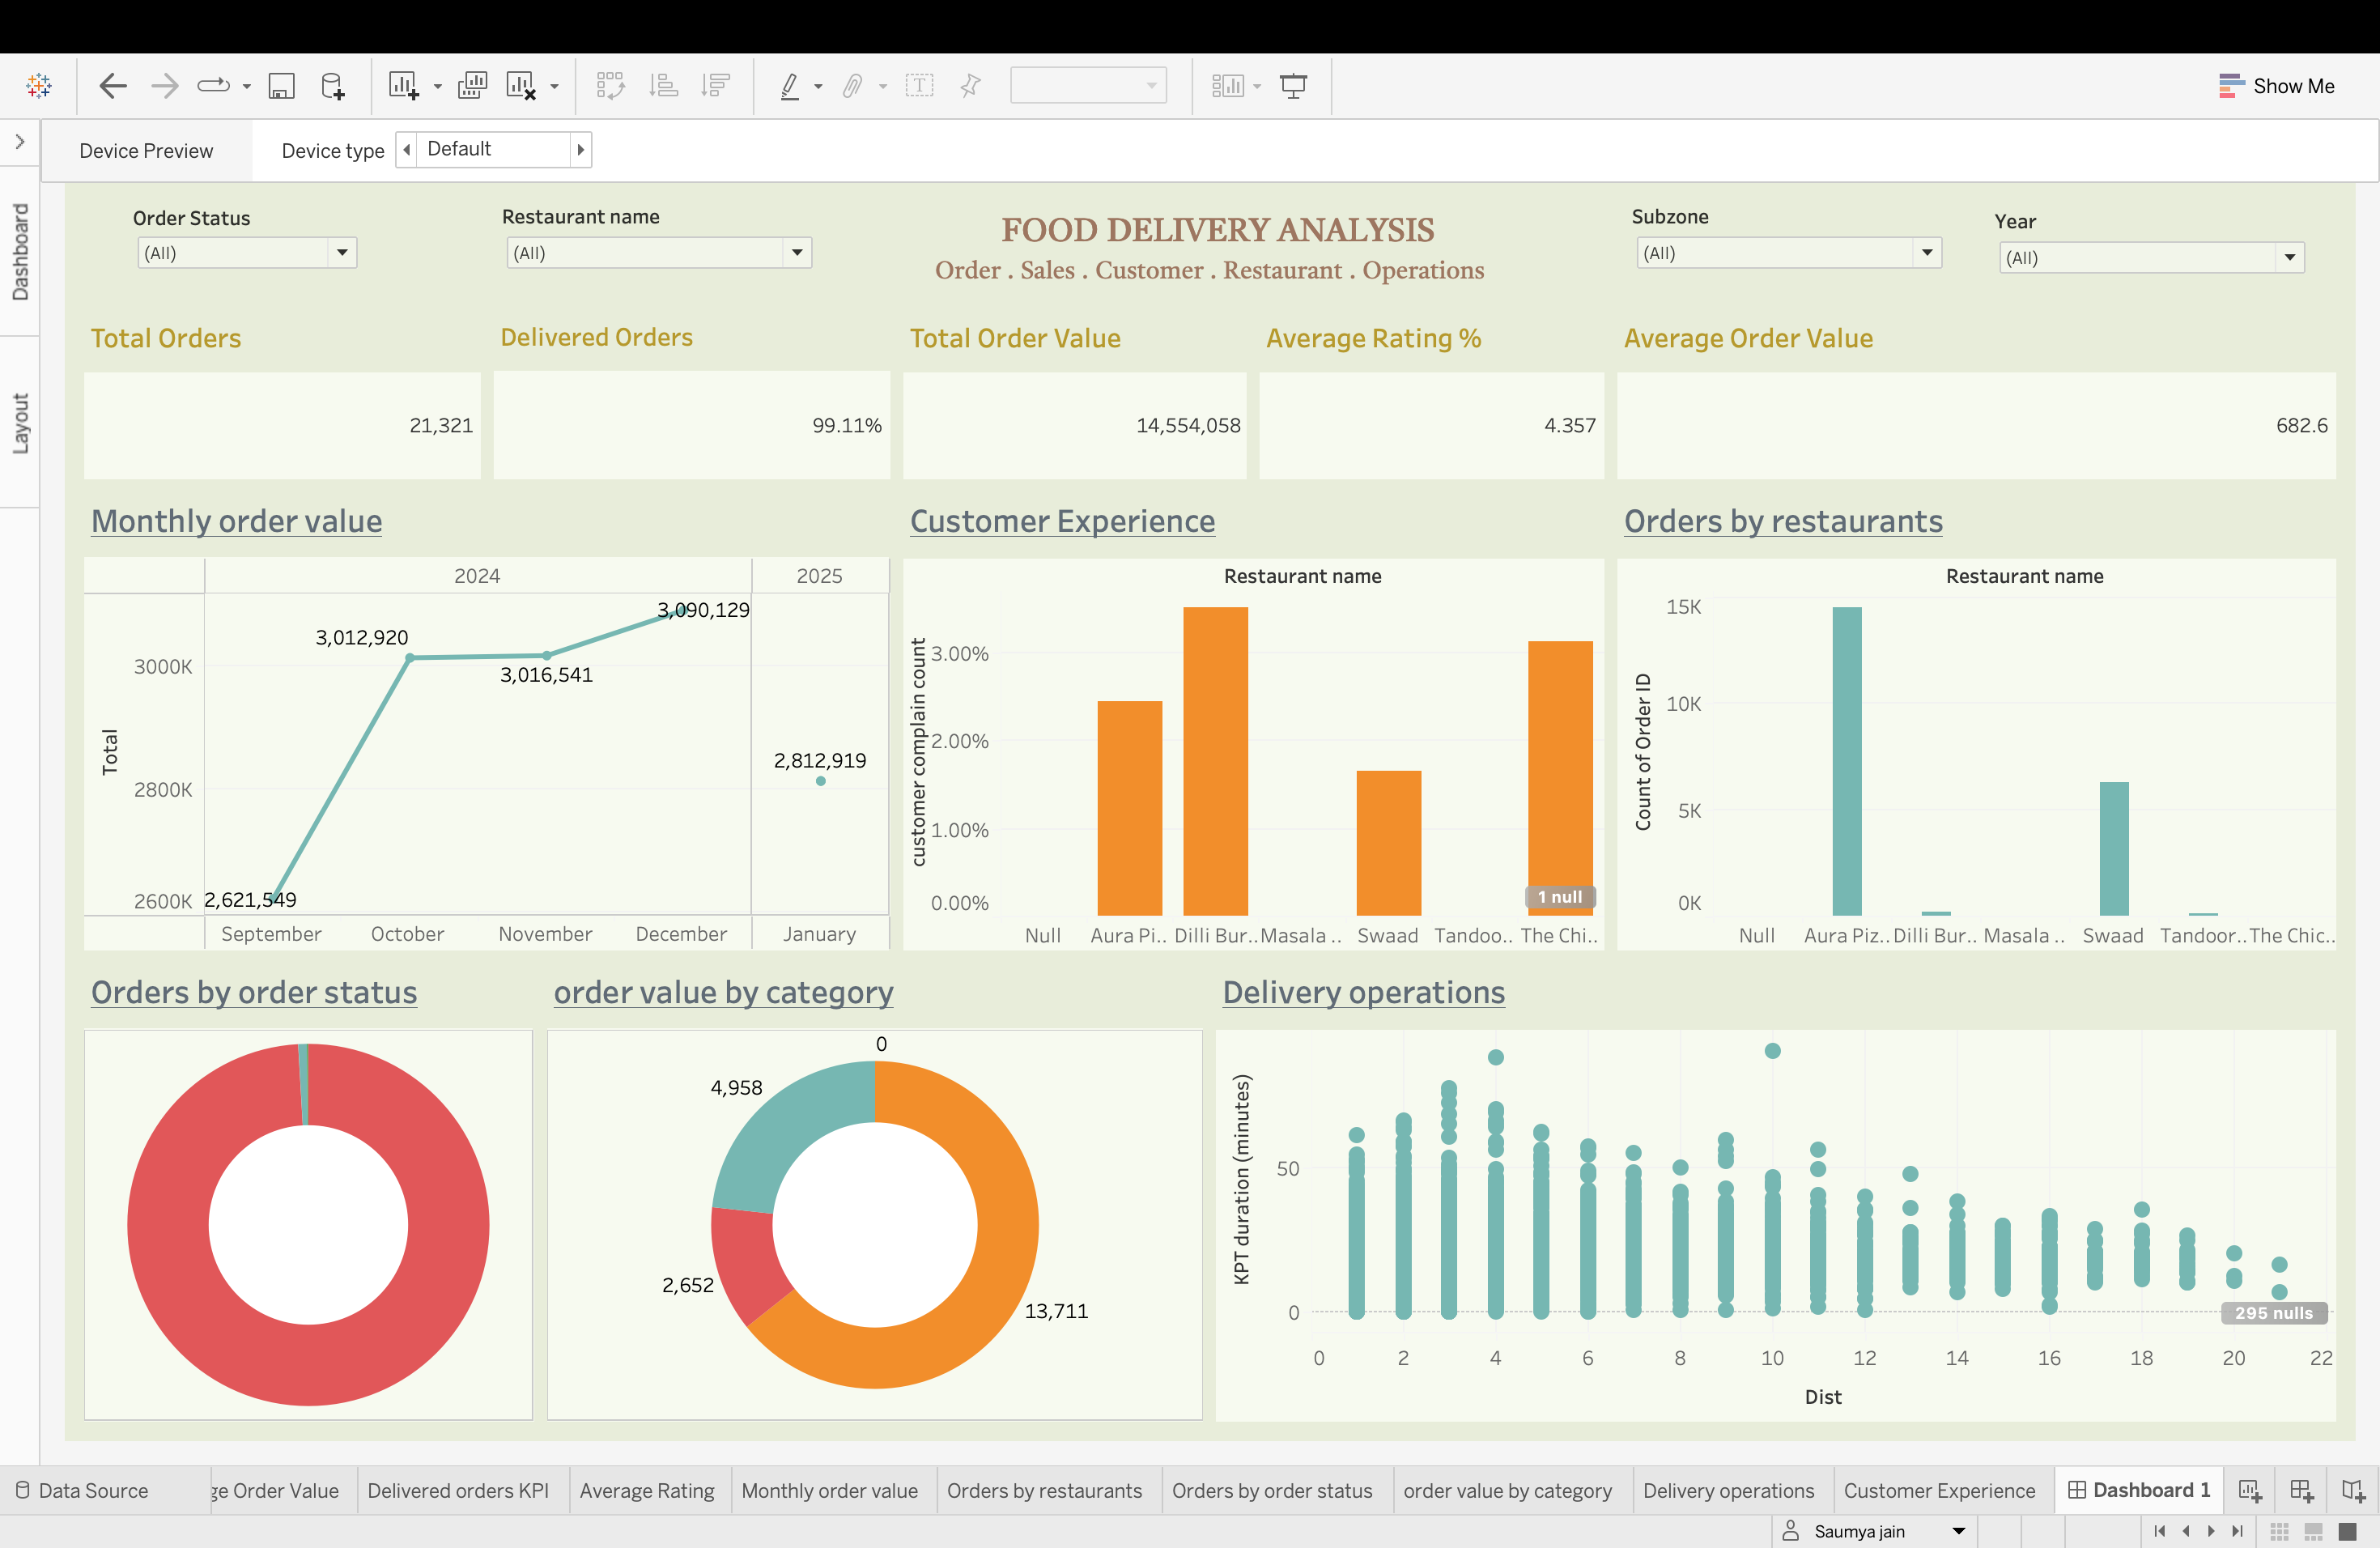

The dashboard page shown, as its layout file describes it:
{"tool":"tableau","page":{"name":"Dashboard 1","canvas":[1000,1000],"units":"permille","ordinal":0},"visuals":[{"type":"title","box":[6.5,10.3,986.9,87.5]},{"type":"filter","title":"Average Order Value","param":"[federated.1mjyzkp0cvid4710n6kn604x98qm].[none:Restaurant name:nk]","box":[190.7,15.4,137.5,66.9]},{"type":"filter","title":"Average Order Value","param":"[federated.1mjyzkp0cvid4710n6kn604x98qm].[none:Subzone:nk]","box":[684.1,15.4,137.5,66.9]},{"type":"filter","title":"Average Order Value","param":"[federated.1mjyzkp0cvid4710n6kn604x98qm].[none:Order Status:nk]","box":[29.5,16.7,100.7,54.1]},{"type":"filter","title":"Average Order Value","param":"[federated.1mjyzkp0cvid4710n6kn604x98qm].[yr:Date (2):ok]","box":[842.1,19.3,137.5,66.9]},{"type":"worksheet","title":"Total Orders","mark":"Automatic","box":[6.5,97.8,178.4,143.1]},{"type":"worksheet","title":"Delivered orders KPI","mark":"Automatic","box":[184.9,97.8,178.4,143.1]},{"type":"worksheet","title":"Total Order Value","mark":"Automatic","rows":["Calculation_1831698973884418"],"box":[363.4,97.8,155.7,143.1]},{"type":"worksheet","title":"Average Rating","mark":"Automatic","box":[519,97.8,155.7,143.1]},{"type":"worksheet","title":"Average Order Value","mark":"Automatic","rows":["Calculation_1831698974183427"],"box":[674.7,97.8,318.7,143.1]},{"type":"worksheet","title":"Monthly order value","mark":"Automatic","rows":["Total"],"cols":["Date (2)","Date (2)"],"box":[6.5,241,356.8,409.2]},{"type":"worksheet","title":"Customer Experience","mark":"Automatic","rows":["Calculation_1831698991599637"],"cols":["Restaurant name"],"box":[363.4,241,311.4,409.2]},{"type":"worksheet","title":"Orders by restaurants","mark":"Automatic","rows":["Order ID"],"cols":["Restaurant name"],"box":[674.7,241,318.7,409.2]},{"type":"worksheet","title":"Orders by order status","mark":"Pie","rows":["Calculation_1831698986958863","Calculation_1831698986958863"],"box":[6.5,650.2,201.6,339.5]},{"type":"worksheet","title":"order value by category","mark":"Pie","rows":["Calculation_1831698988384273","Calculation_1831698988384273"],"box":[208.1,650.2,291.9,339.5]},{"type":"worksheet","title":"Delivery operations","mark":"Circle","rows":["KPT duration (minutes)"],"cols":["Calculation_1831698989789202"],"box":[500,650.2,493.5,339.5]}]}

Visuals, with their boxes on the dashboard's canvas, which has no fixed pixel size, in thousandths of its width and height (x1, y1, x2, y2). These are canvas units, not pixel positions in the 2380x1548 screenshot, which may show the page scaled, cropped or inside an application window:
title: box(6, 10, 993, 98)
"Average Order Value" filter: box(191, 15, 328, 82)
"Average Order Value" filter: box(684, 15, 822, 82)
"Average Order Value" filter: box(30, 17, 130, 71)
"Average Order Value" filter: box(842, 19, 980, 86)
"Total Orders" worksheet: box(6, 98, 185, 241)
"Delivered orders KPI" worksheet: box(185, 98, 363, 241)
"Total Order Value" worksheet: box(363, 98, 519, 241)
"Average Rating" worksheet: box(519, 98, 675, 241)
"Average Order Value" worksheet: box(675, 98, 993, 241)
"Monthly order value" worksheet: box(6, 241, 363, 650)
"Customer Experience" worksheet: box(363, 241, 675, 650)
"Orders by restaurants" worksheet: box(675, 241, 993, 650)
"Orders by order status" worksheet (Pie marks): box(6, 650, 208, 990)
"order value by category" worksheet (Pie marks): box(208, 650, 500, 990)
"Delivery operations" worksheet (Circle marks): box(500, 650, 994, 990)
